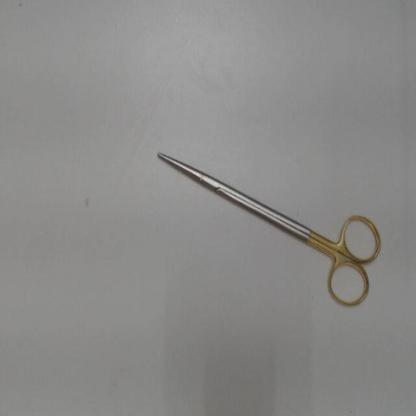7 Metzenbaum Scissors: (154, 147, 388, 313)
